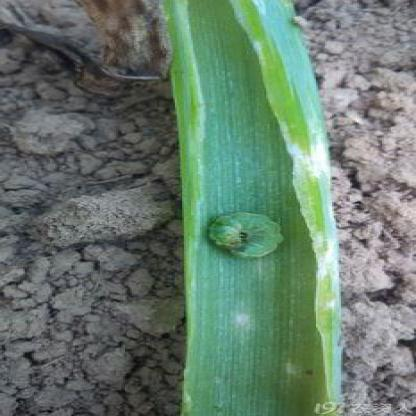armyworm: (200, 206, 300, 264)
